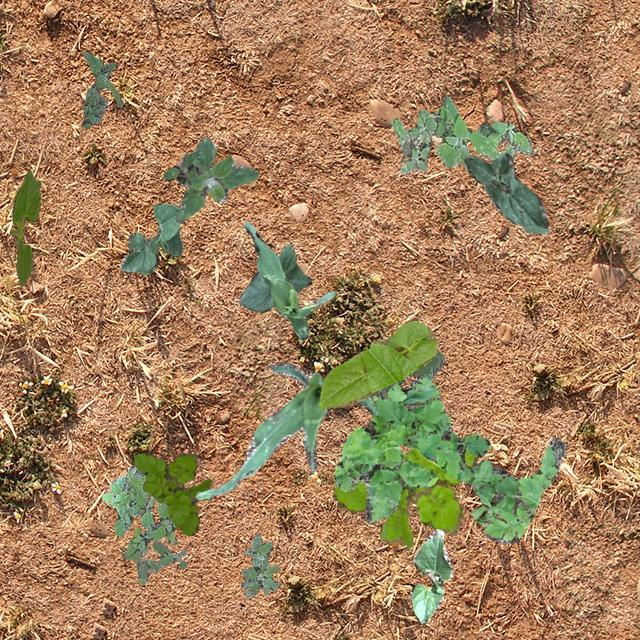crop: (195, 362, 378, 498), (243, 220, 334, 340), (318, 320, 438, 408), (464, 152, 548, 232), (238, 244, 310, 312), (118, 202, 182, 274), (408, 528, 452, 622), (10, 170, 40, 286)
weed: (334, 376, 566, 542), (332, 446, 478, 546), (391, 96, 534, 172), (162, 136, 258, 222), (100, 464, 178, 556), (132, 452, 210, 534), (82, 49, 122, 128), (376, 350, 444, 396), (120, 540, 186, 584), (240, 532, 278, 596)
